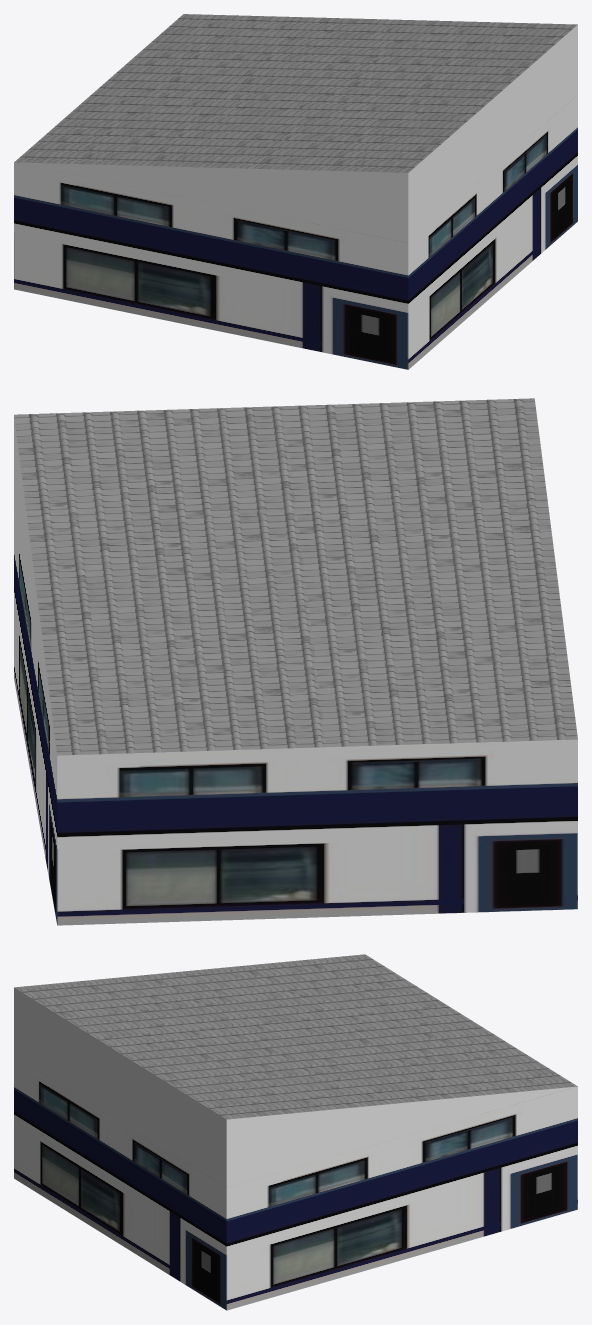
3 views of the same model, one above another, from view 1: azimuth 30°, elevation 25°; view 2: azimuth 150°, elevation 25°; view 3: azimuth 270°, elevation 25° (orthographic). The views are drawn at different scales.
Parts seen in each view (by area): view 1: CityEngineMaterial_2_m, CityEngineMaterial_4_m, CityEngineMaterial_3_m; view 2: CityEngineMaterial_4_m, CityEngineMaterial_2_m, CityEngineMaterial_3_m; view 3: CityEngineMaterial_2_m, CityEngineMaterial_4_m, CityEngineMaterial_3_m.
Boxes of the visible parts, left/top/right/bottom form: CityEngineMaterial_2_m: left=14, top=95, right=577, bottom=369; CityEngineMaterial_4_m: left=14, top=14, right=577, bottom=172; CityEngineMaterial_3_m: left=14, top=25, right=577, bottom=242; CityEngineMaterial_4_m: left=14, top=398, right=577, bottom=755; CityEngineMaterial_2_m: left=14, top=509, right=577, bottom=925; CityEngineMaterial_3_m: left=14, top=416, right=56, bottom=752; CityEngineMaterial_2_m: left=14, top=1055, right=577, bottom=1310; CityEngineMaterial_4_m: left=14, top=954, right=577, bottom=1119; CityEngineMaterial_3_m: left=14, top=987, right=576, bottom=1187.
Size of the model in its own units: 28.19 by 10.78 by 28.82.
